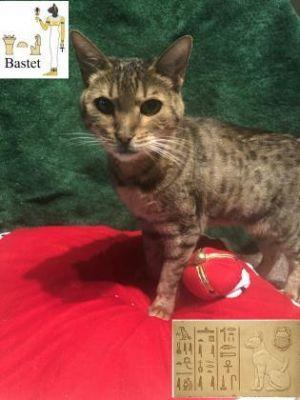bengal: (65, 22, 197, 171)
